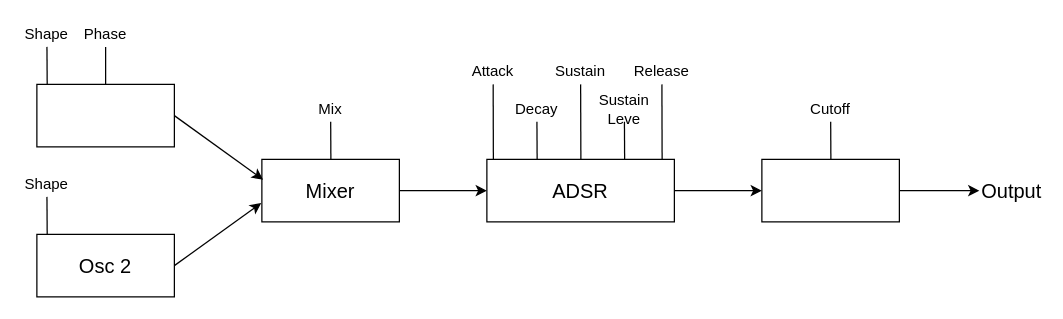
This 1063x319 diagram has some shape labels left out. Here are the shapes that lost their labels. From the top down, the centre of each, then its label:
(x=105, y=115): Osc 1
(x=830, y=190): Low-Pass Filter
